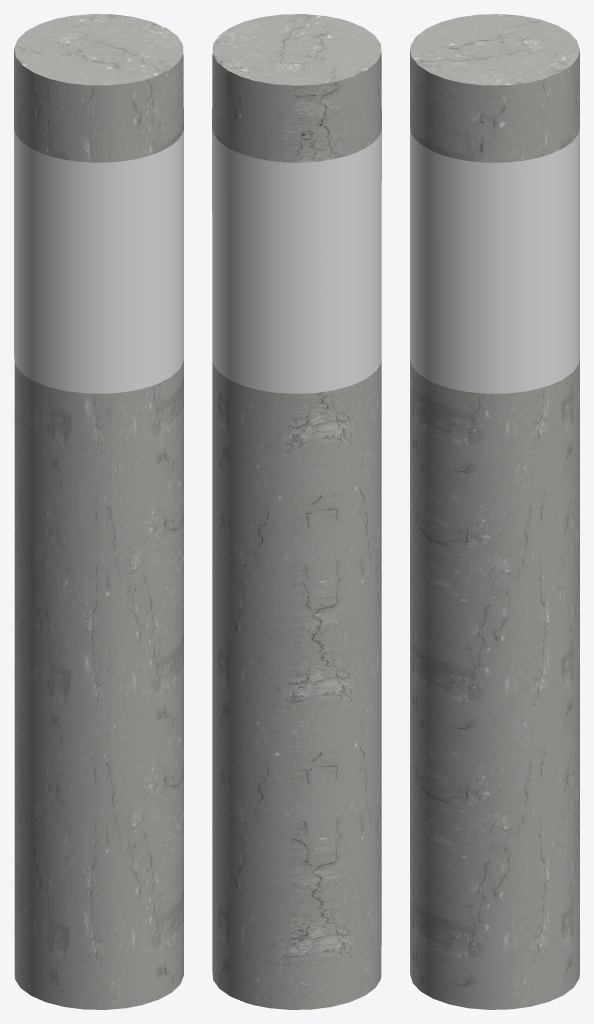
File: Lights.fbx
The picture shows the model from 3 angles, left to right: view 1: azimuth 30°, elevation 25°; view 2: azimuth 150°, elevation 25°; view 3: azimuth 270°, elevation 25°; orthographic projection.
Parts seen in each view (by area): view 1: Mesh6; view 2: Mesh6; view 3: Mesh6.
Boxes of the visible parts, x1,y1,x2,y2 form: Mesh6: (14, 14, 183, 1009); Mesh6: (212, 14, 381, 1009); Mesh6: (410, 14, 579, 1009).
Bounding box in the file's own units: 31.89 × 191 × 31.89.
2 materials, 1 textured.
